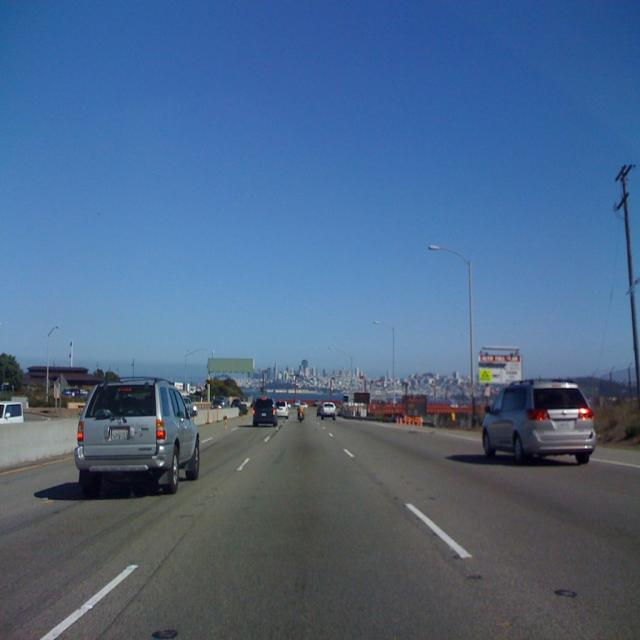Car: (75, 377, 200, 491), (482, 381, 598, 464), (252, 393, 278, 426), (0, 401, 22, 422), (321, 400, 335, 418), (278, 402, 288, 418)
